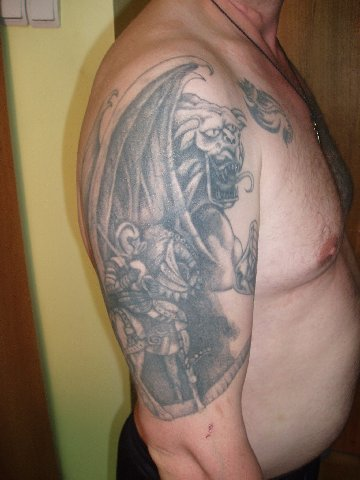tatu6_drakon: (49, 38, 293, 427)
